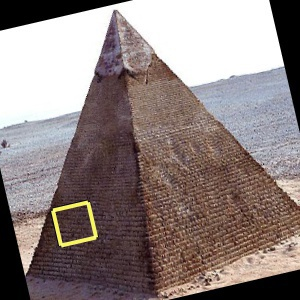square: (47, 199, 100, 248)
